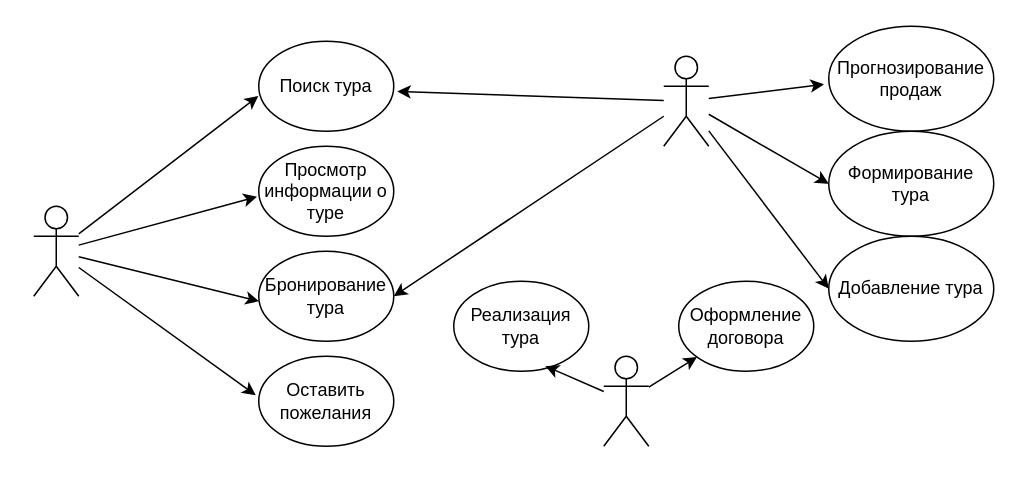
Some shapes in this 1020 by 504 pixel diagram are drawn without their labels. The shapes that lost their labels are listed below. From the top down, each one's centre as x and y in pixels, then its label:
At (685,100): "Туроператор".
At (55,250): "Клиент".
At (625,400): "Турагент".
